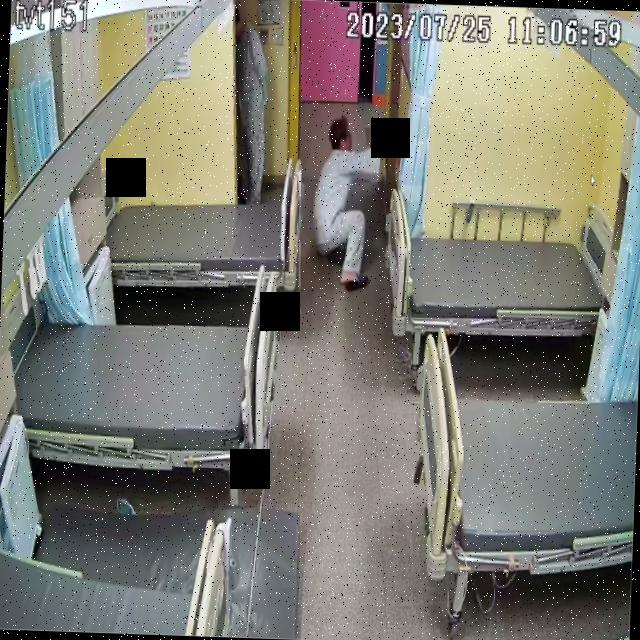bed: (412, 328, 640, 580), (9, 307, 278, 469), (382, 215, 620, 342), (106, 185, 298, 290)
fall: (304, 107, 396, 286)
patient: (303, 109, 398, 286), (230, 0, 271, 203)
stand: (229, 0, 271, 202)
